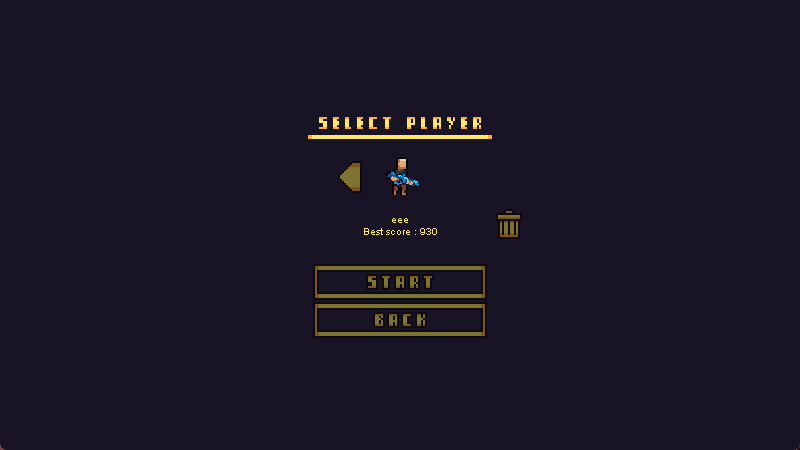play: (313, 265, 485, 298)
